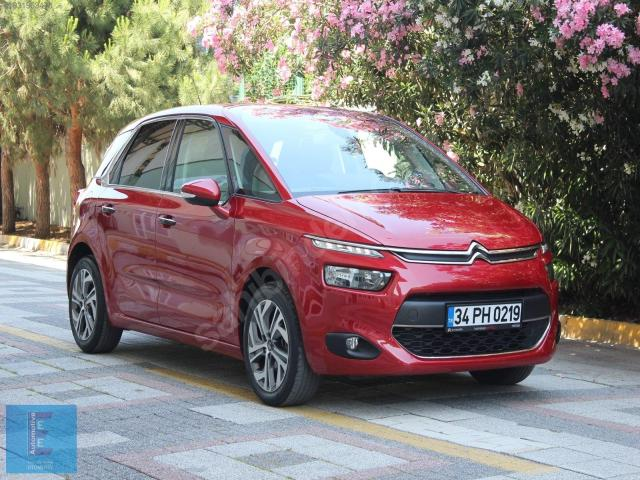plaka: (445, 300, 524, 331)
